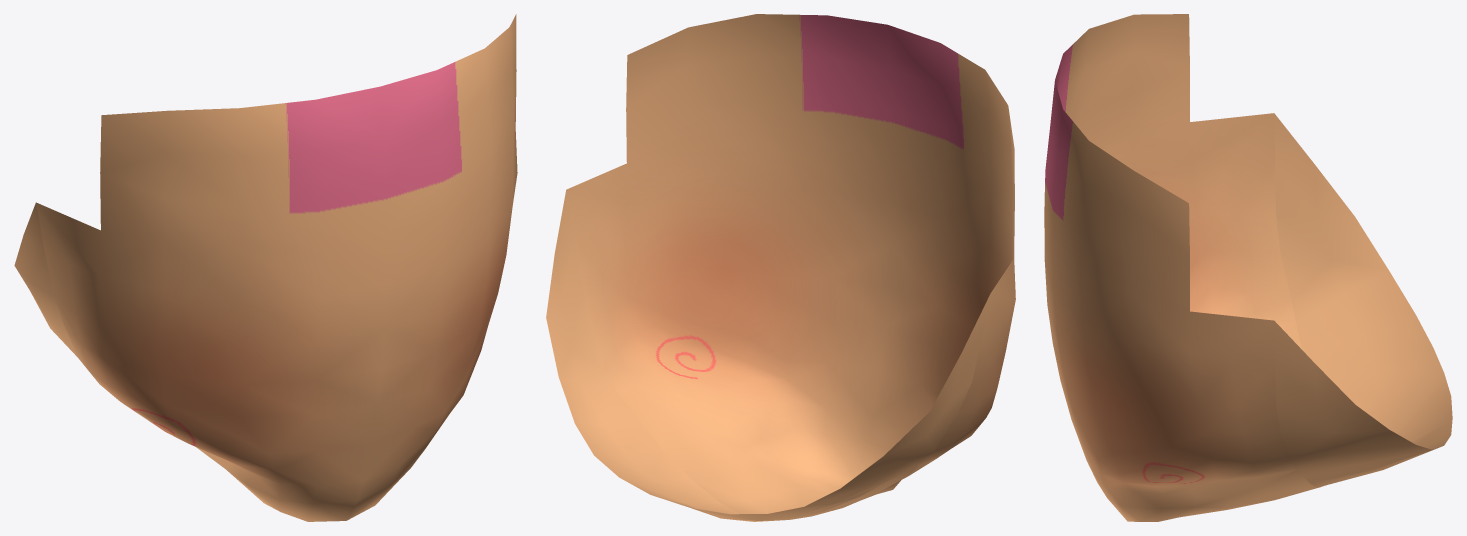
File: Faceline_10.glb
3 renders of one model, left to right at view 1: azimuth 30°, elevation 25°; view 2: azimuth 150°, elevation 25°; view 3: azimuth 270°, elevation 25°, orthographic. The views are drawn at different scales.
Visible parts, largest first — view 1: Head10; view 2: Head10; view 3: Head10.
Boxes of the visible parts, x1,y1,x2,y2 form: Head10: (14, 14, 517, 521); Head10: (546, 14, 1015, 521); Head10: (1044, 14, 1452, 521).
Size of the model in its own units: 52.6 by 51.09 by 43.74.
Materials: 1 (1 with a texture image).
